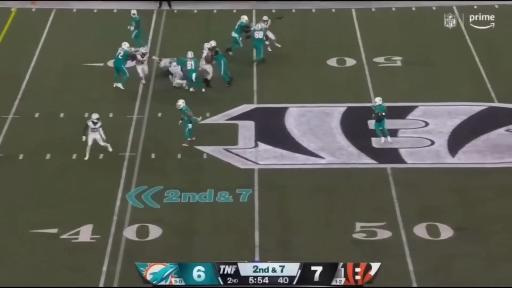Helmet: (175, 98, 187, 109), (90, 113, 99, 123), (374, 97, 384, 106), (139, 48, 150, 55), (122, 42, 130, 51), (254, 24, 264, 31), (210, 40, 217, 49), (241, 16, 249, 23), (187, 51, 194, 59), (204, 43, 211, 50), (262, 15, 270, 21), (131, 10, 137, 17)
Jersey: (177, 58, 198, 75), (114, 48, 130, 66), (84, 120, 101, 135), (232, 21, 249, 36), (372, 104, 386, 122), (252, 30, 266, 46), (180, 106, 192, 124), (213, 49, 225, 63), (169, 63, 181, 76), (200, 50, 210, 65), (136, 53, 148, 65), (131, 17, 140, 31), (259, 20, 270, 30), (263, 19, 271, 29)
Player: (83, 114, 112, 159), (176, 100, 201, 146), (177, 52, 205, 91), (210, 41, 233, 86), (226, 16, 250, 55), (159, 58, 187, 89), (372, 98, 391, 142), (246, 24, 267, 62), (114, 43, 131, 89), (261, 16, 281, 51), (128, 9, 146, 47), (200, 42, 213, 87), (168, 61, 188, 89), (135, 47, 149, 84)
